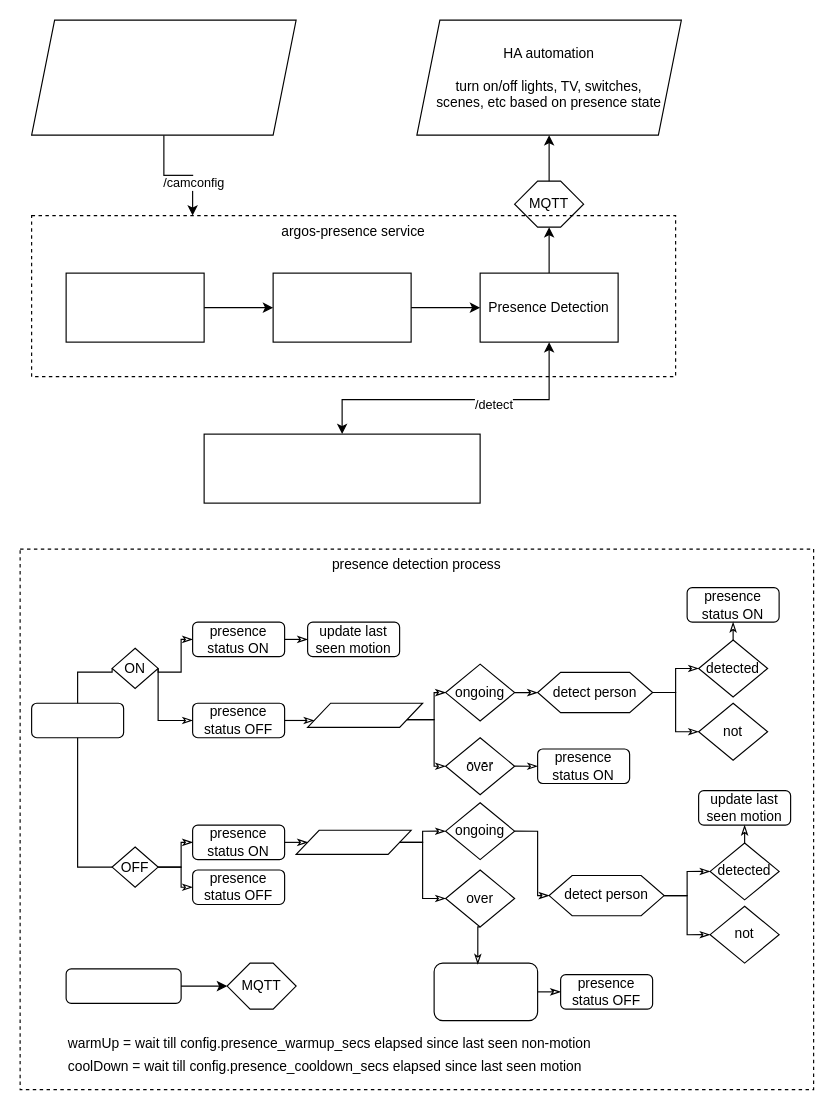
This 834x1110 diagram has some shape labels left out. Each missing label, with the centre of its shape:
"argos object detection service (running on same or remote rpi)" belongs at (x=341, y=468).
"coolDown" belongs at (x=353, y=841).
"HA automation change camera exposure settings for day/night lighting" belongs at (x=163, y=77).
"Motion" belongs at (x=77, y=720).
"Motion Detection" belongs at (x=341, y=307).
"PiCamera or RTMP stream" belongs at (x=134, y=307).
"presence status CHANGED" belongs at (x=123, y=985).
"update last seen non-motion" belongs at (x=485, y=991).
"warmUp" belongs at (x=364, y=714).
